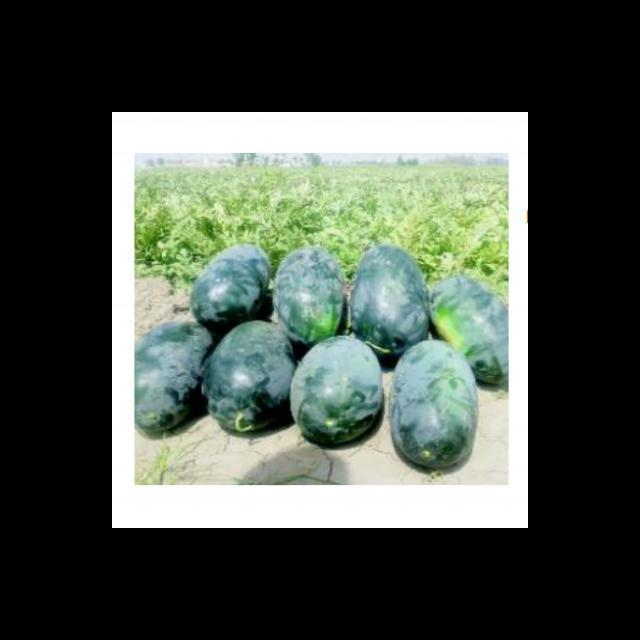watermelon: (200, 319, 299, 439), (388, 339, 479, 468), (289, 334, 383, 446), (349, 243, 430, 367), (134, 318, 216, 438), (427, 274, 510, 388), (190, 243, 272, 334), (271, 246, 345, 346)
